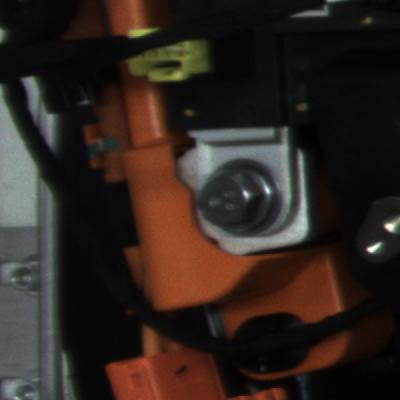nut_b: (184, 150, 296, 239)
